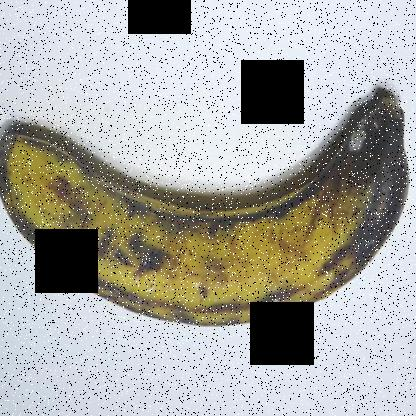overripe: (0, 60, 415, 342)
rotten: (290, 77, 413, 280)
